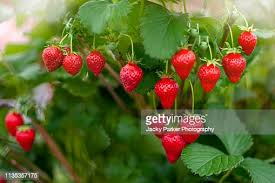ripe: (159, 127, 189, 166), (151, 73, 180, 112), (178, 111, 205, 146), (223, 48, 249, 84), (170, 46, 196, 81), (197, 61, 223, 93), (120, 59, 143, 94), (41, 41, 62, 75), (59, 50, 84, 78), (16, 123, 38, 154), (146, 110, 169, 138), (85, 46, 105, 78), (3, 107, 25, 136), (237, 29, 259, 56)
